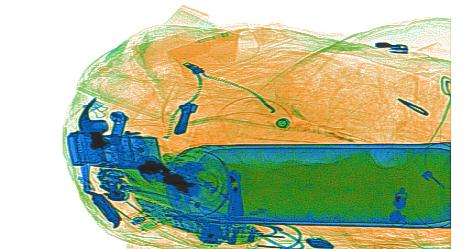battery: (156, 169, 201, 199)
plasticBottleWithaNozzle: (132, 23, 254, 68)
